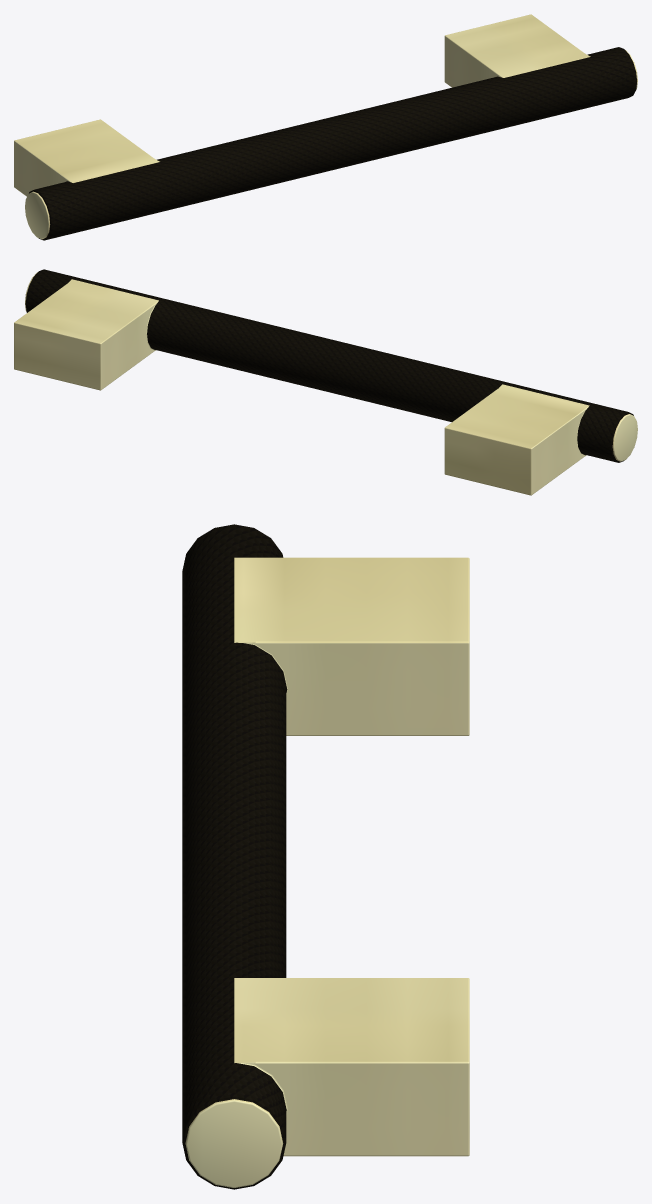
The model's file is brass-roxi.glb.
The picture shows the model from 3 angles, top to bottom: view 1: azimuth 30°, elevation 25°; view 2: azimuth 150°, elevation 25°; view 3: azimuth 270°, elevation 25°; orthographic projection. The views are drawn at different scales.
Visible parts, largest first — view 1: ROXI; view 2: ROXI; view 3: ROXI.
Boxes of the visible parts, left/top/right/bottom form: ROXI: left=14, top=14, right=637, bottom=240; ROXI: left=14, top=269, right=637, bottom=495; ROXI: left=182, top=524, right=469, bottom=1189.
Size of the model in its own units: 4.67 by 0.3579 by 0.987.
Materials: 2 (2 with a texture image).
